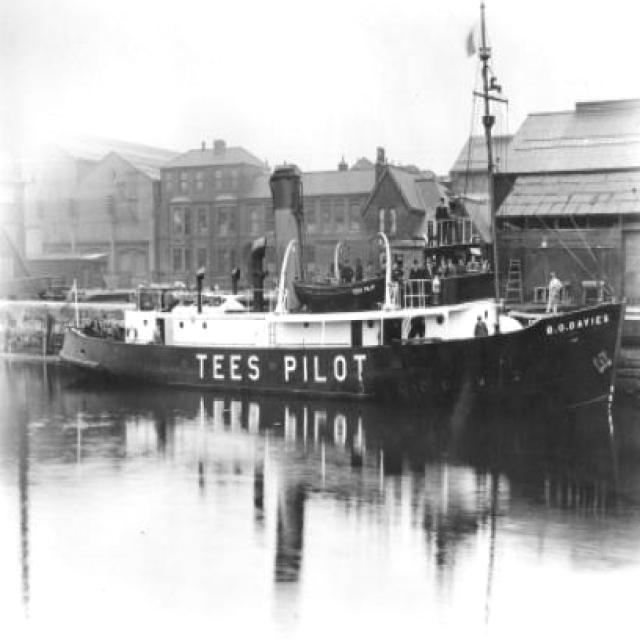ship: (55, 0, 627, 424)
